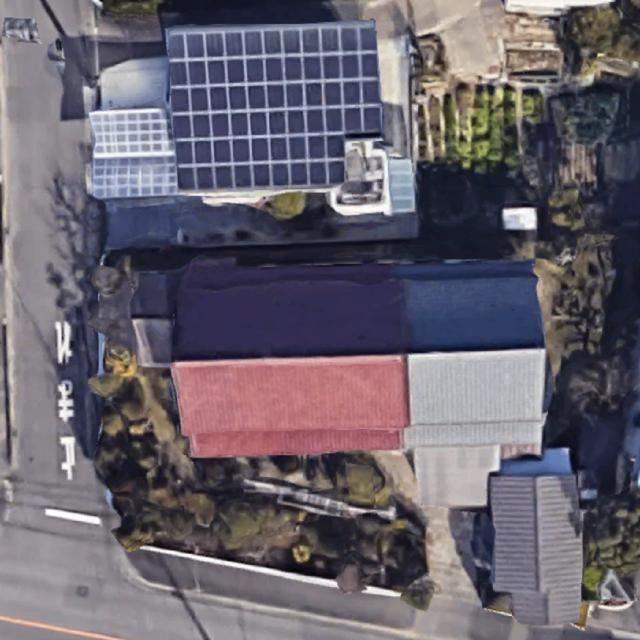Batiment: (170, 259, 547, 458), (167, 21, 383, 191), (490, 474, 583, 625)
